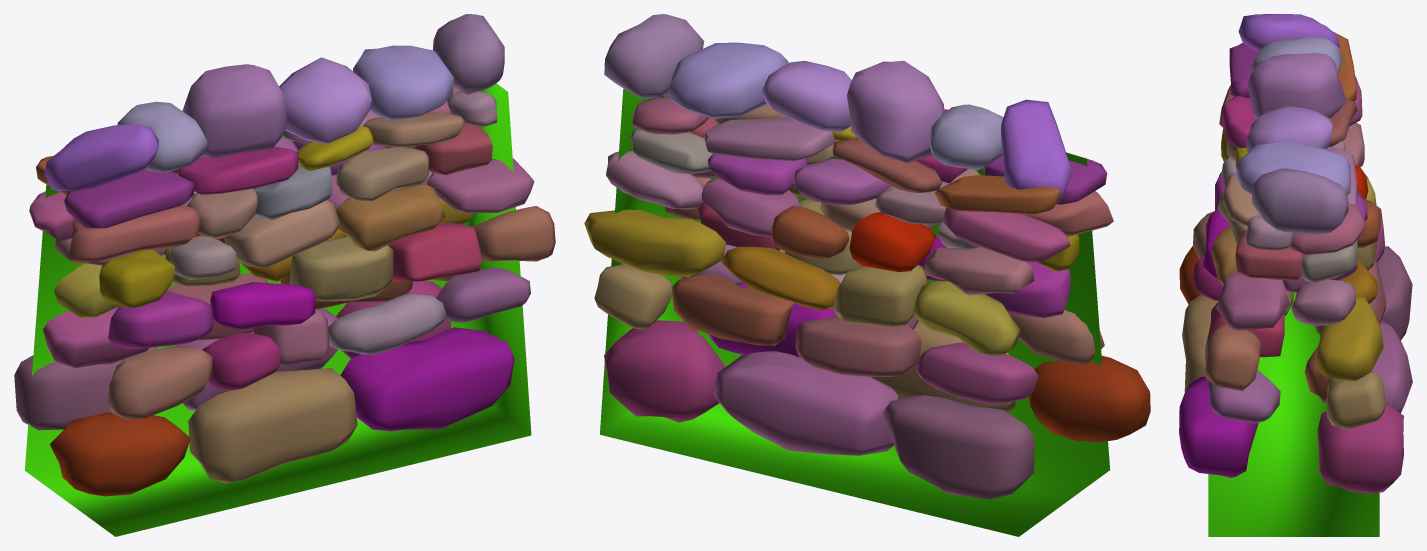
File: SM_Prop_wall_stone_17.glb
3 views of the same model, side by side, from view 1: azimuth 30°, elevation 25°; view 2: azimuth 150°, elevation 25°; view 3: azimuth 270°, elevation 25° (orthographic). The views are drawn at different scales.
Visible parts, largest first — view 1: SM_Prop_wall_stone_17; view 2: SM_Prop_wall_stone_17; view 3: SM_Prop_wall_stone_17.
Part boxes in pixels (left/top/right/bottom): SM_Prop_wall_stone_17: left=14, top=14, right=555, bottom=536; SM_Prop_wall_stone_17: left=584, top=14, right=1150, bottom=536; SM_Prop_wall_stone_17: left=1179, top=14, right=1412, bottom=536.
Size of the model in its own units: 2.32 by 1.75 by 1.01.
